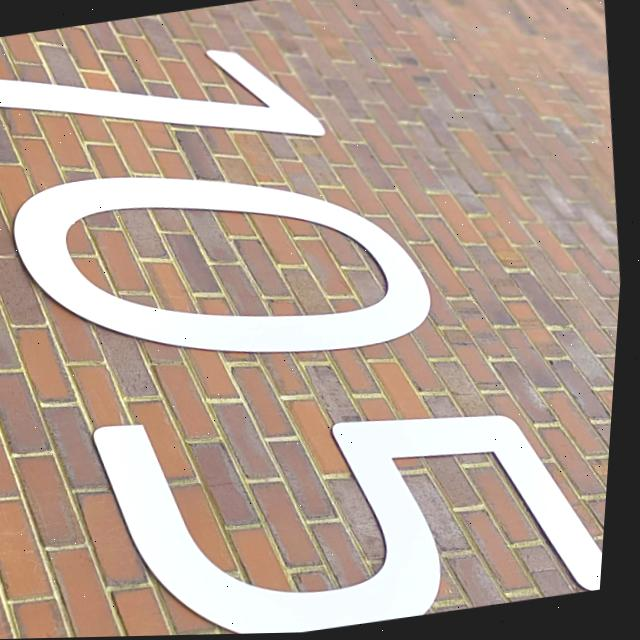character: (67, 347, 616, 638), (0, 128, 450, 402), (0, 15, 337, 189)
